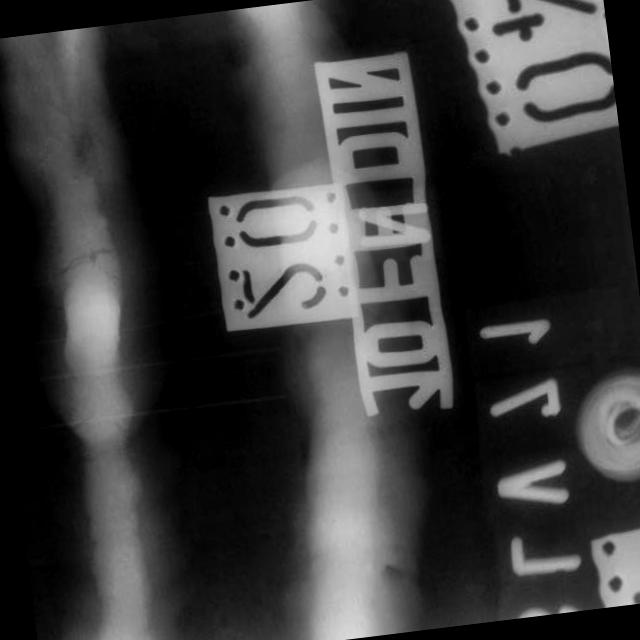Crack: (52, 228, 120, 289)
